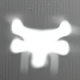plane: (4, 15, 79, 75)
